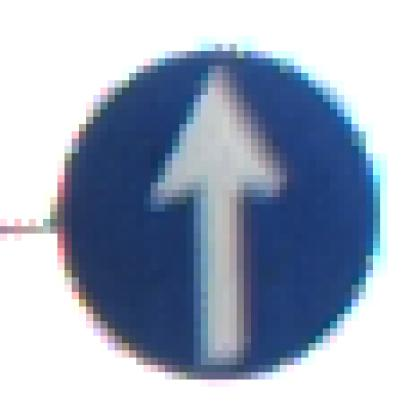AheadOnly: (44, 45, 374, 380)
